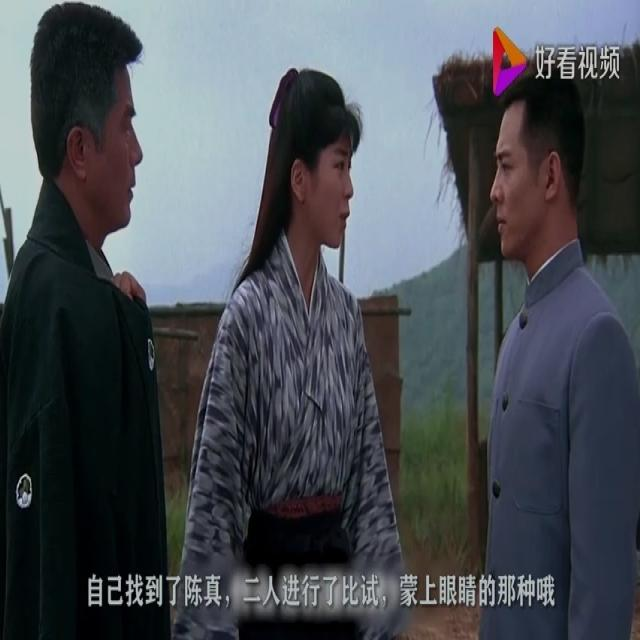non-fight: (170, 64, 410, 640), (6, 0, 170, 640), (481, 65, 639, 640)
